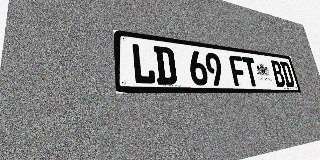6: (187, 50, 209, 85)
9: (204, 52, 225, 86)
B: (270, 60, 286, 87)
D: (153, 46, 178, 85), (280, 61, 295, 87)
F: (229, 55, 248, 86)
L: (131, 43, 156, 84)
T: (241, 57, 260, 86)
